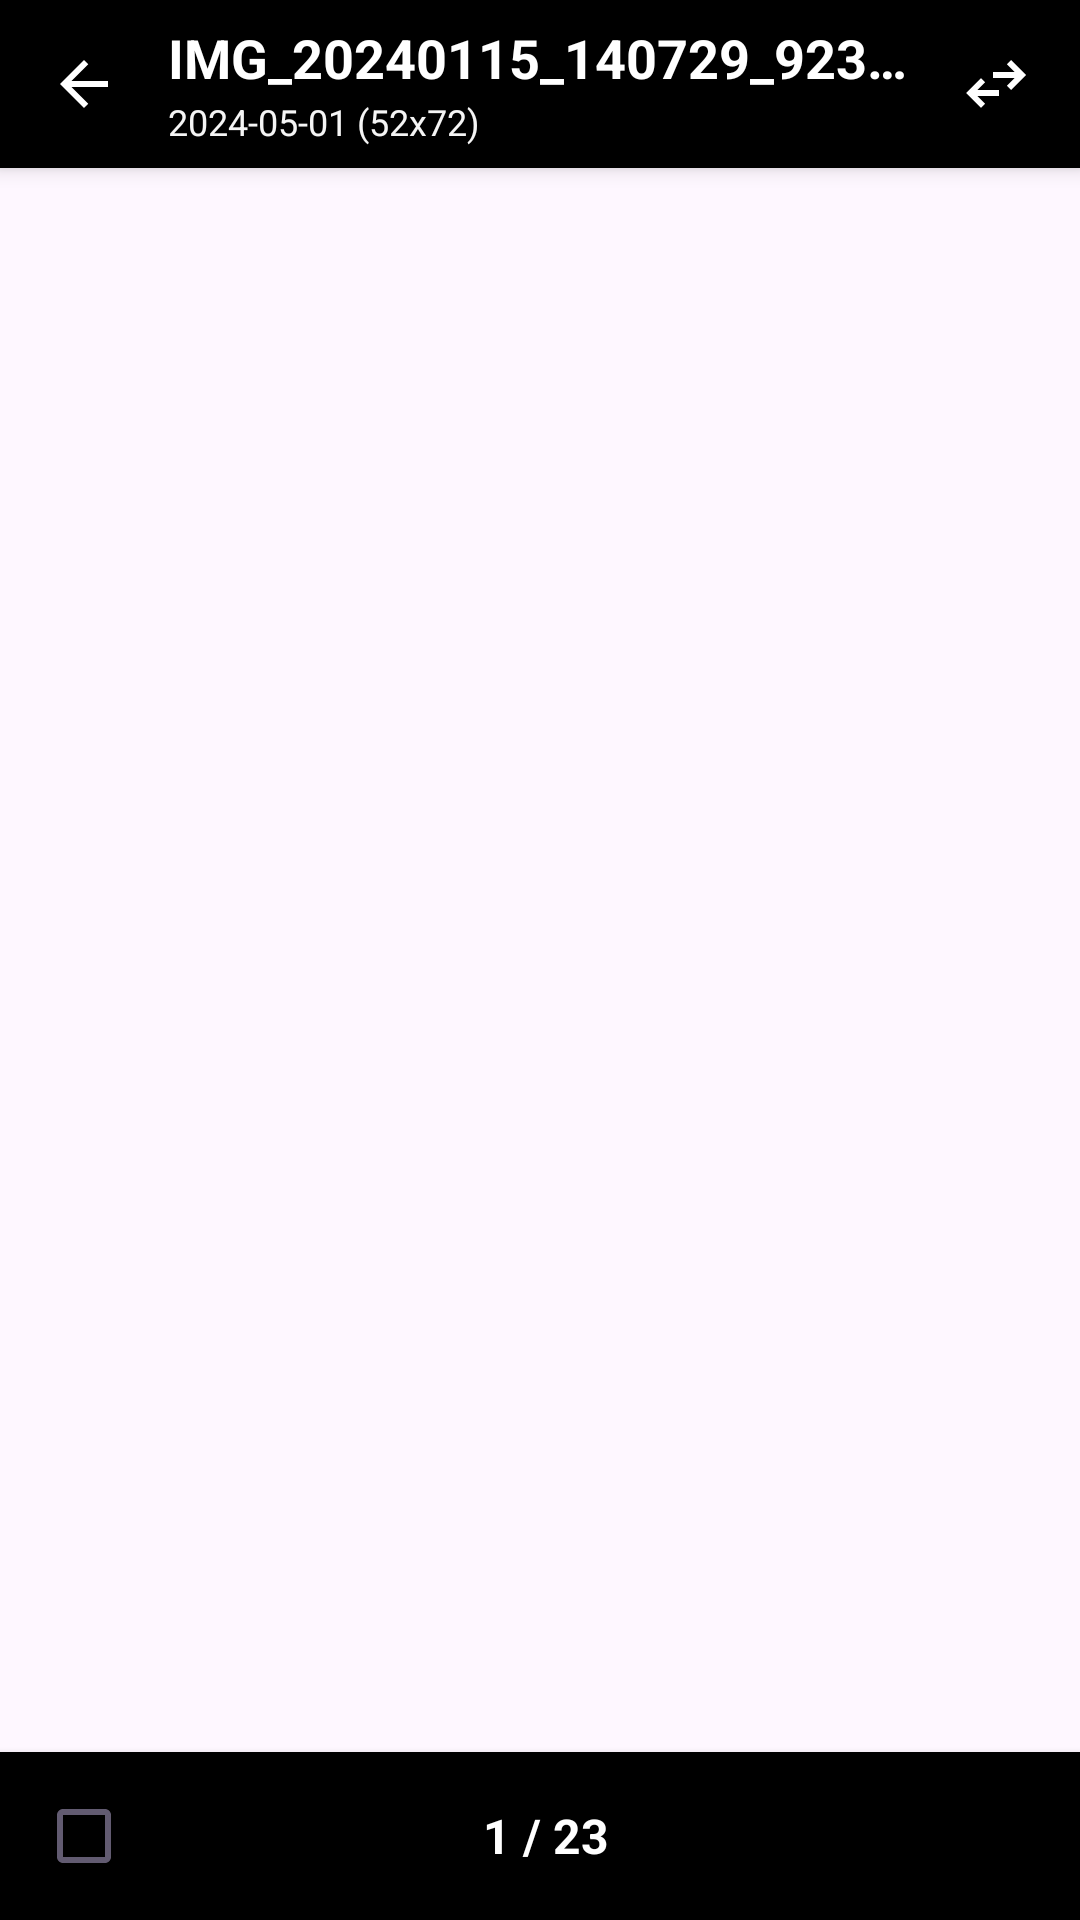

Locate icon controls on the screen. Image size 1080 x 1920, boxes as (x1, y1, x2, y2).
arrow back: (60, 60, 108, 108)
swap horiz: (966, 60, 1026, 108)
